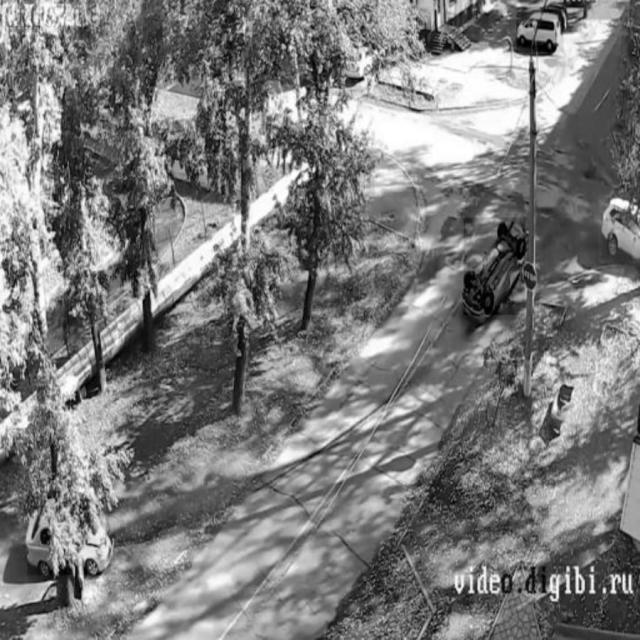accident: (454, 207, 544, 329)
vehicle: (27, 495, 115, 575), (599, 195, 640, 263), (516, 6, 563, 52)
